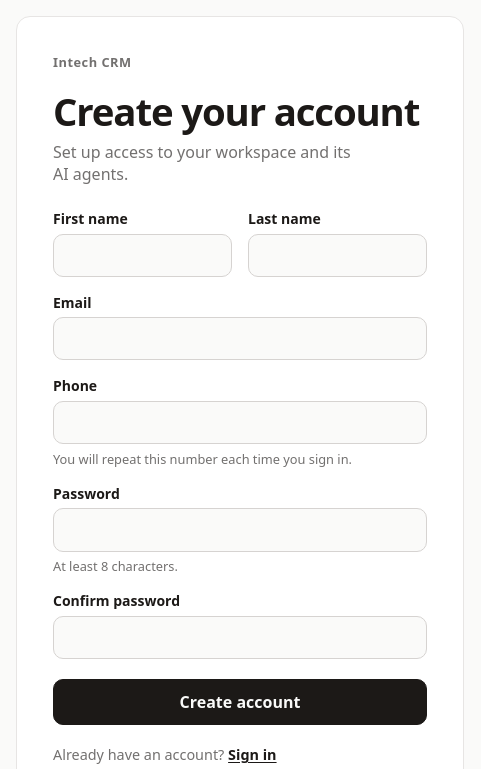
SignUpPage › erros de campo vindos da API são exibidos junto aos campos
Step 1. Type "Ada" into the field labelled "First name" → (142, 255), box [53,234,232,277]
Step 2. Type "Lovelace" into the field labelled "Last name" → (338, 255), box [248,234,427,277]
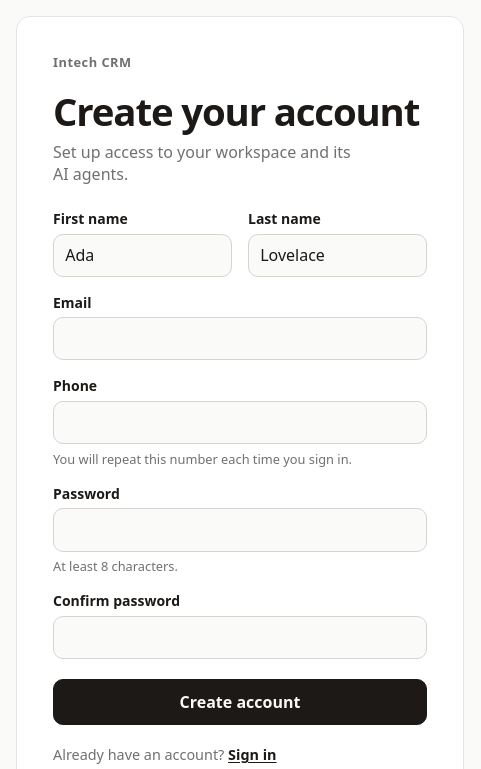
Step 3. Type "ada@example.com" into the field labelled "Email" → (240, 339), box [53,317,427,360]
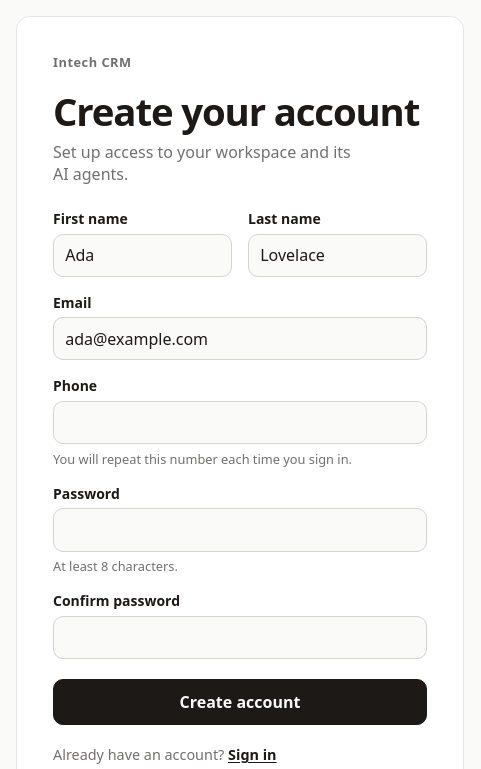
Step 4. Type "+5511988887777" into the field labelled "Phone" → (240, 423), box [53,401,427,444]
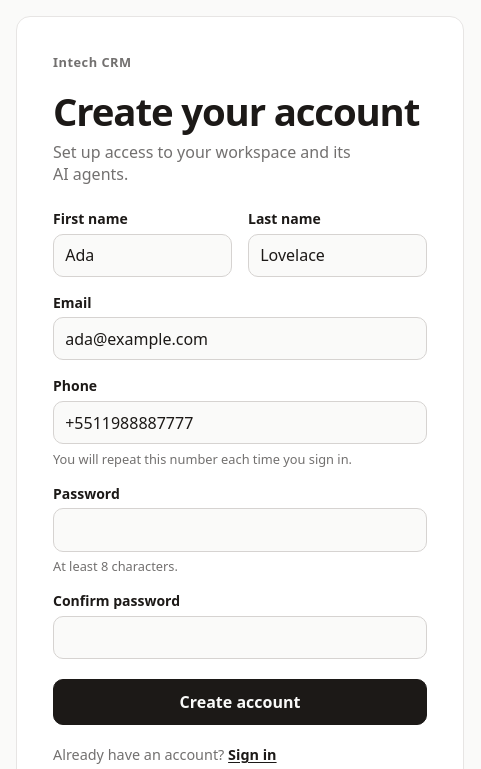
Step 5. Type "password123" into the password field labelled "Password" → (240, 530), box [53,508,427,552]
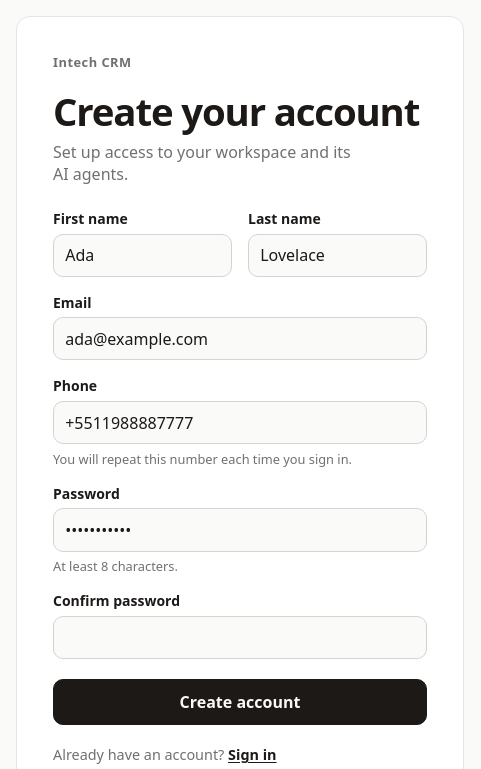
Step 6. Type "password123" into the password field labelled "Confirm password" → (240, 637), box [53,616,427,659]
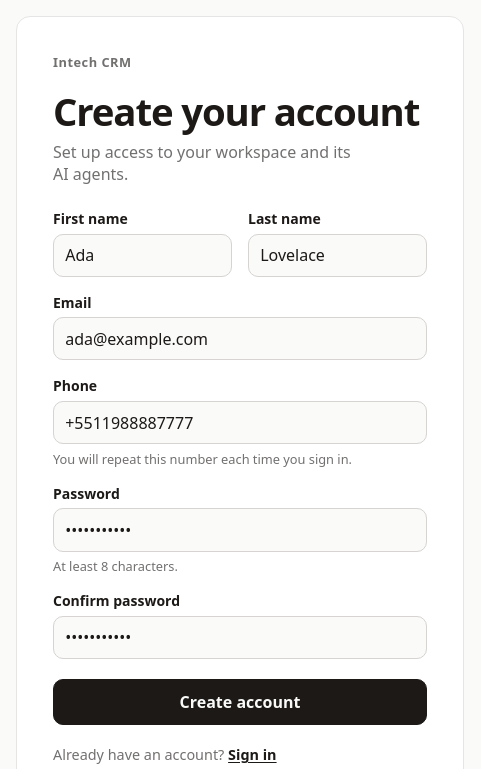
Step 7. Click the button "Create account" → (240, 702), box [53,679,427,725]
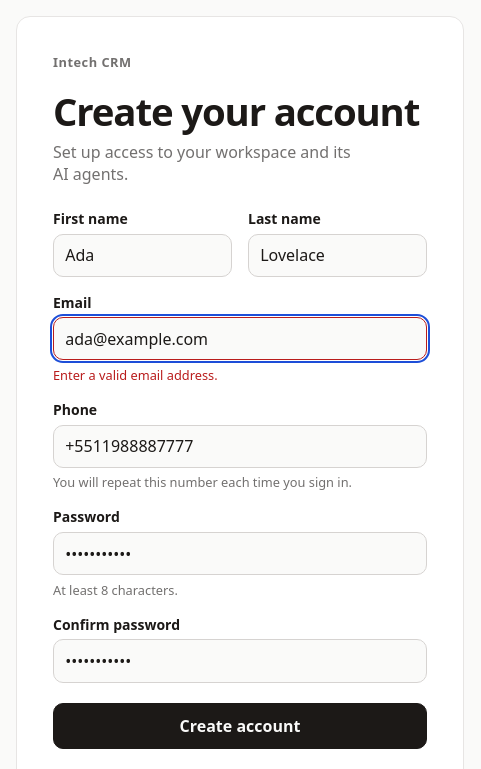
Check: the text "Enter a valid email address." is shown, box [53,366,218,384]
